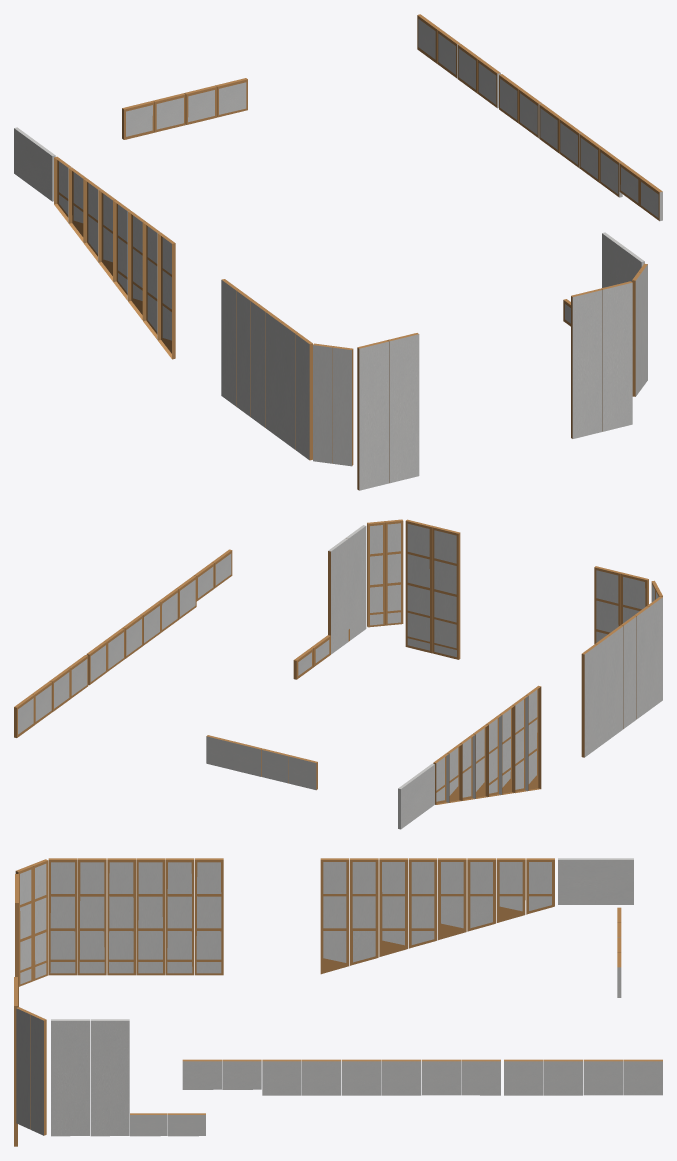
Rendered from Auditoria_KoristeetSeinä.fbx.
3 renders of one model, top to bottom at view 1: azimuth 30°, elevation 25°; view 2: azimuth 150°, elevation 25°; view 3: azimuth 270°, elevation 25°, orthographic. The views are drawn at different scales.
Parts seen in each view (by area): view 1: wALLdETAILSmONSTRUM; view 2: wALLdETAILSmONSTRUM; view 3: wALLdETAILSmONSTRUM.
Part boxes in pixels (<box>): wALLdETAILSmONSTRUM: <box>14,14,662,490</box>; wALLdETAILSmONSTRUM: <box>14,519,662,829</box>; wALLdETAILSmONSTRUM: <box>14,858,662,1146</box>.
Bounding box in the file's own units: 23.55 × 7.62 × 31.73.
Materials: 1 (1 with a texture image).
